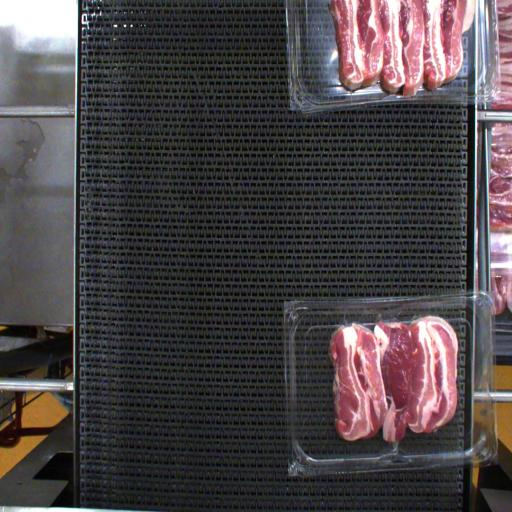packaging-error: (337, 308, 352, 327)
unsealed: (325, 312, 454, 342)
